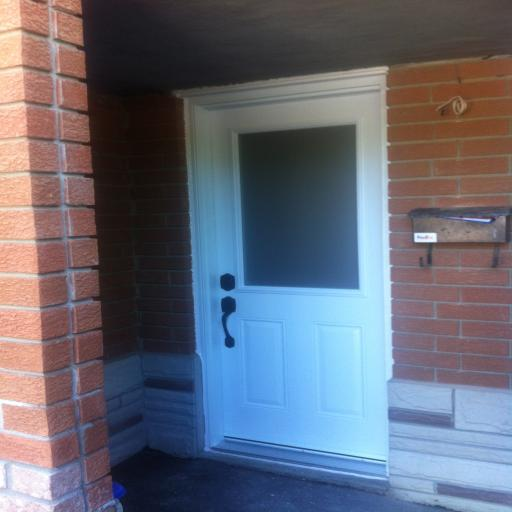Door: (195, 89, 387, 460)
